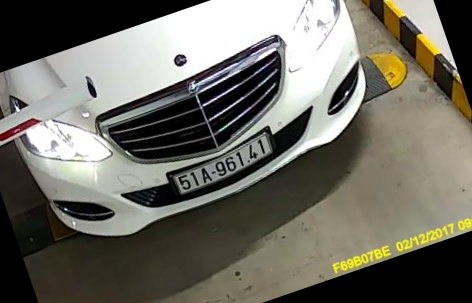plate: (159, 129, 284, 198)
